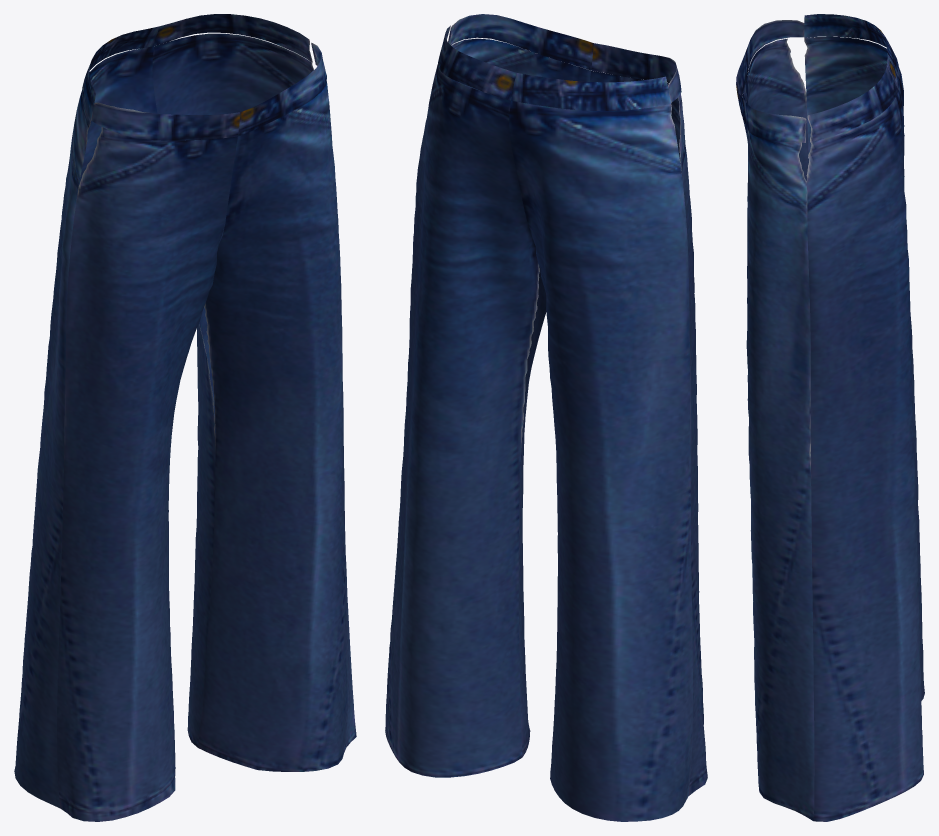
Rendered from Beggy.fbx.
3 renders of one model, left to right at view 1: azimuth 30°, elevation 25°; view 2: azimuth 150°, elevation 25°; view 3: azimuth 270°, elevation 25°, orthographic. The views are drawn at different scales.
Parts seen in each view (by area): view 1: Baggy Jeans; view 2: Baggy Jeans; view 3: Baggy Jeans.
Boxes of the visible parts, <box> form: Baggy Jeans: <box>14,14,356,821</box>; Baggy Jeans: <box>385,14,707,821</box>; Baggy Jeans: <box>736,14,924,821</box>.
Size of the model in its own units: 48.07 by 107 by 26.48.
